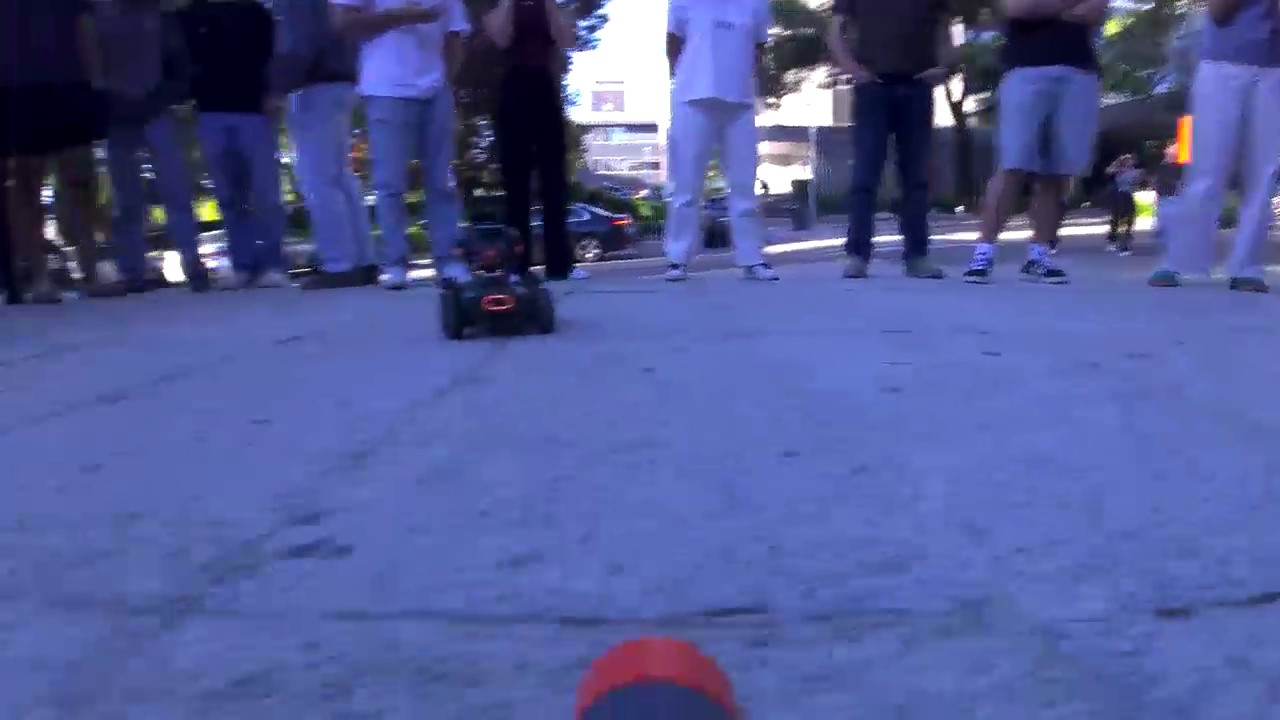robot: (423, 230, 592, 350)
